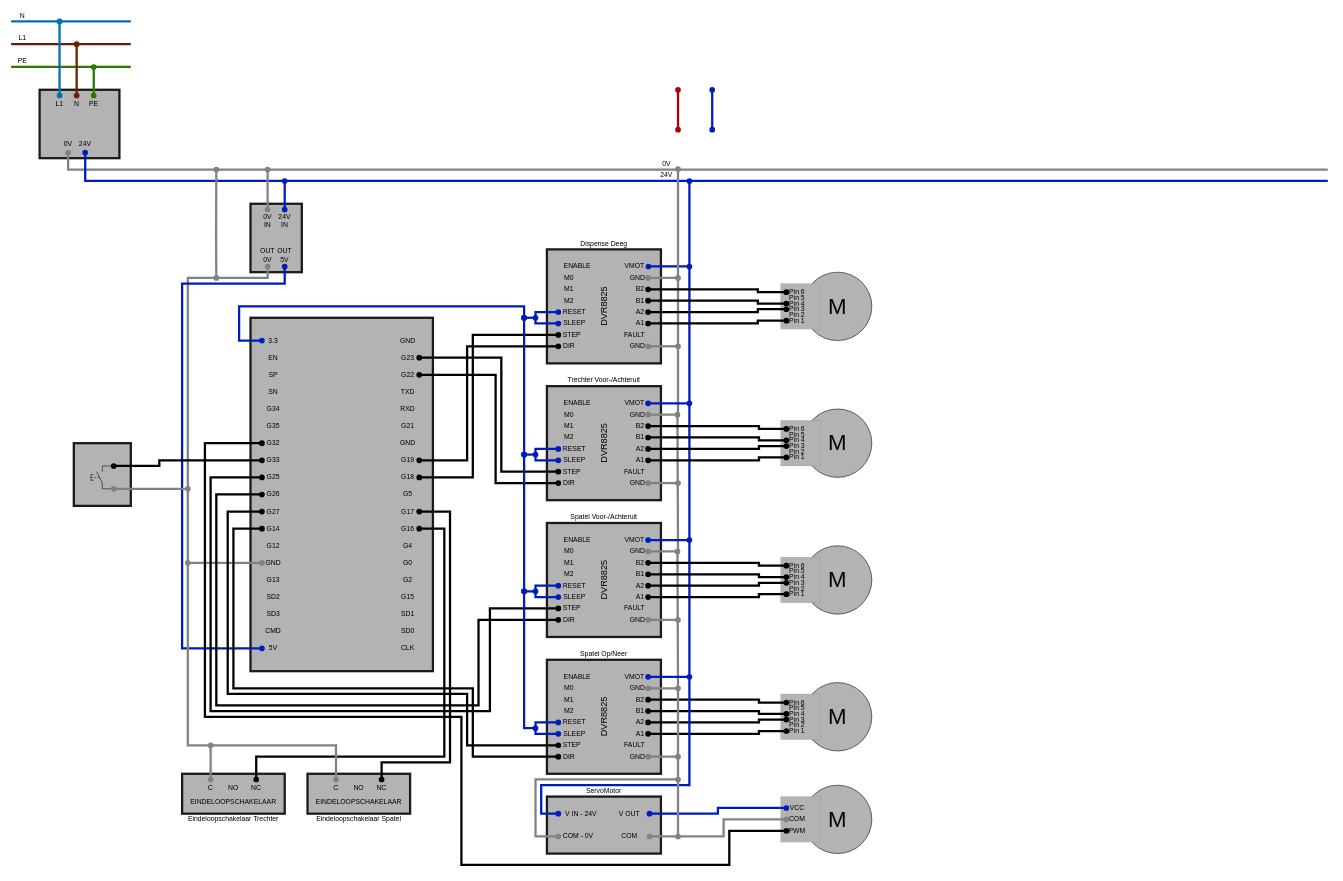
This 1343x881 diagram has some shape labels left out. Each missing label, with the box of its shape:
Button: (72, 442, 132, 507)
D24V10F5: (249, 202, 303, 273)
DC/DC: (545, 795, 662, 854)
ESP32 WROOM 32: (249, 316, 434, 672)
UHP-350-24: (38, 88, 120, 159)
